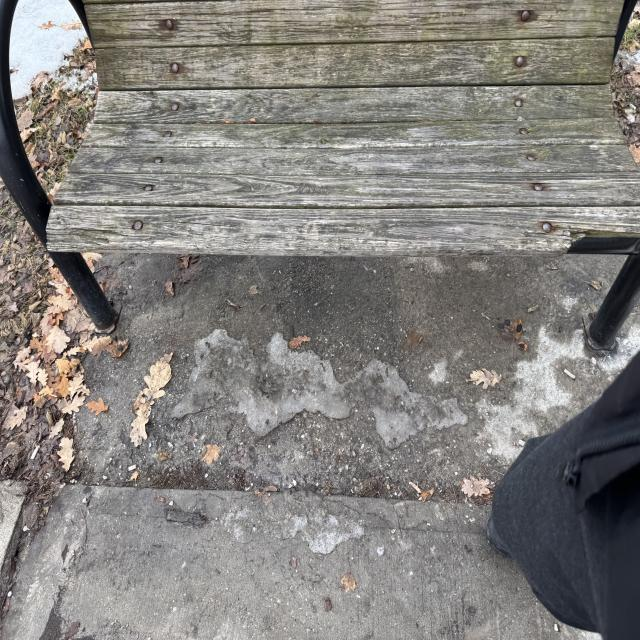Bench: (0, 2, 639, 336)
